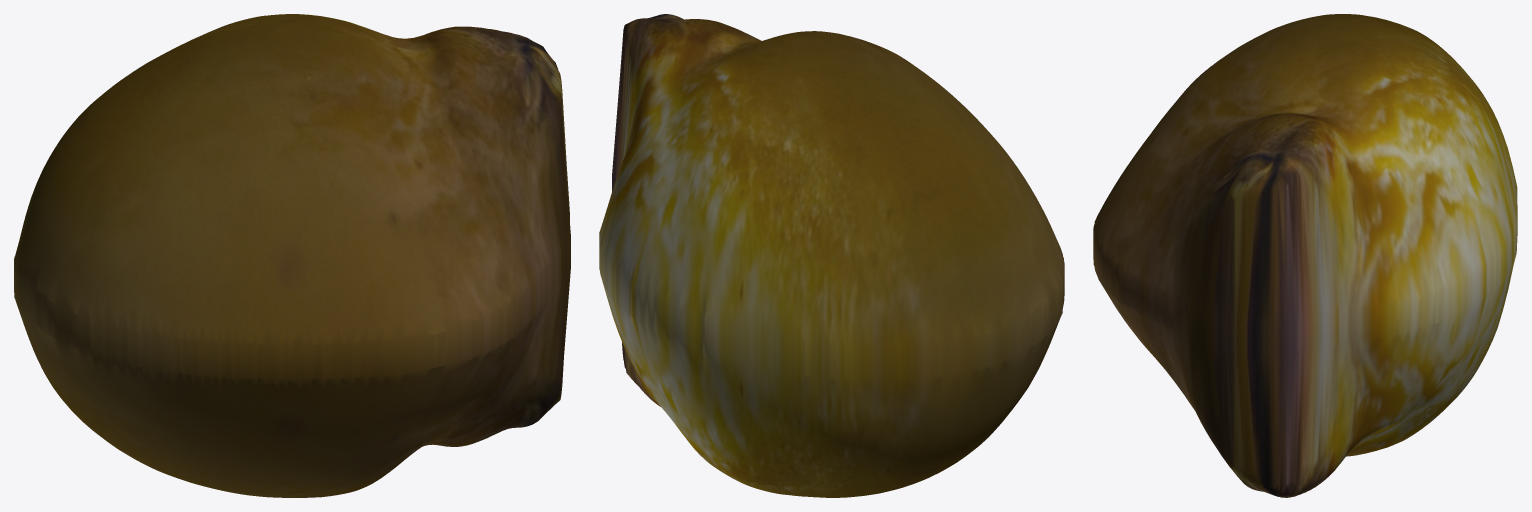
The model's file is lemon_6_2.obj.
3 views of the same model, side by side, from view 1: azimuth 30°, elevation 25°; view 2: azimuth 150°, elevation 25°; view 3: azimuth 270°, elevation 25° (orthographic). The views are drawn at different scales.
Parts seen in each view (by area): view 1: Grid; view 2: Grid; view 3: Grid.
Boxes of the visible parts, box(x1,y1,x2,y2) form: Grid: box(14, 14, 570, 497); Grid: box(599, 14, 1064, 497); Grid: box(1093, 14, 1517, 497).
Bounding box in the file's own units: 1.8 × 1.6 × 1.53.
Materials: 1 (1 with a texture image).
